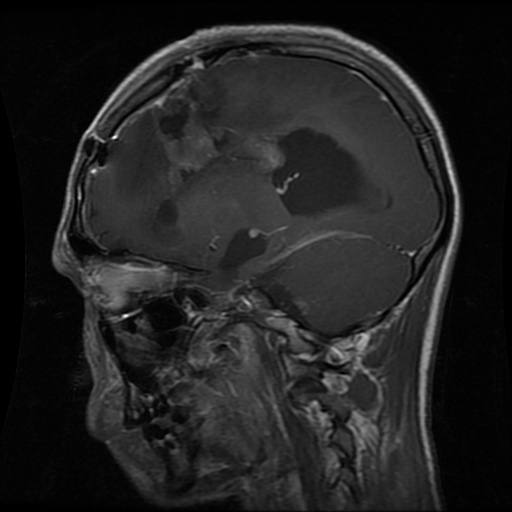glioma: (114, 67, 374, 244)
